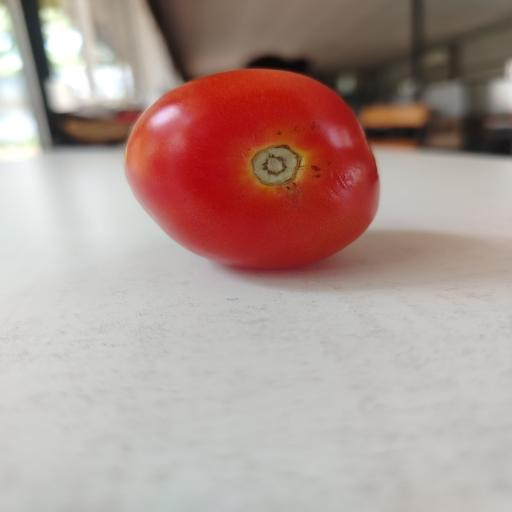ripe: (125, 69, 379, 268)
